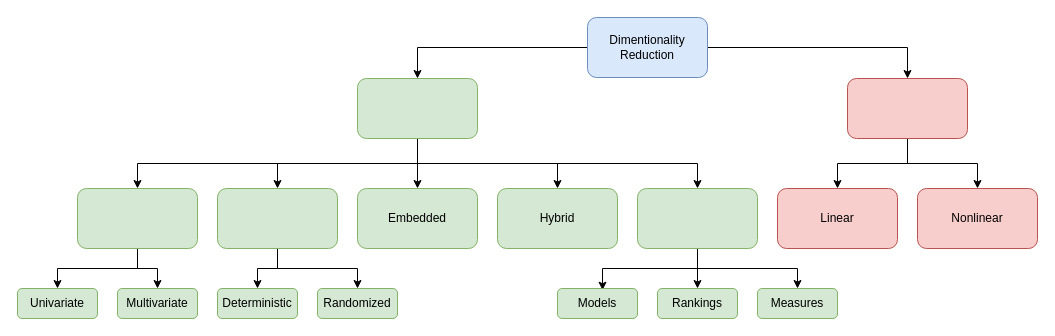
This 1055x336 diagram has some shape labels left out. Here are the shapes that lost their labels. From the top down, the centre of each, then its label:
At (x=417, y=108): "Feature Selection".
At (x=907, y=108): "Feature Extraction".
At (x=137, y=218): "Filter".
At (x=277, y=218): "Wrapper".
At (x=697, y=218): "Ensemble".
